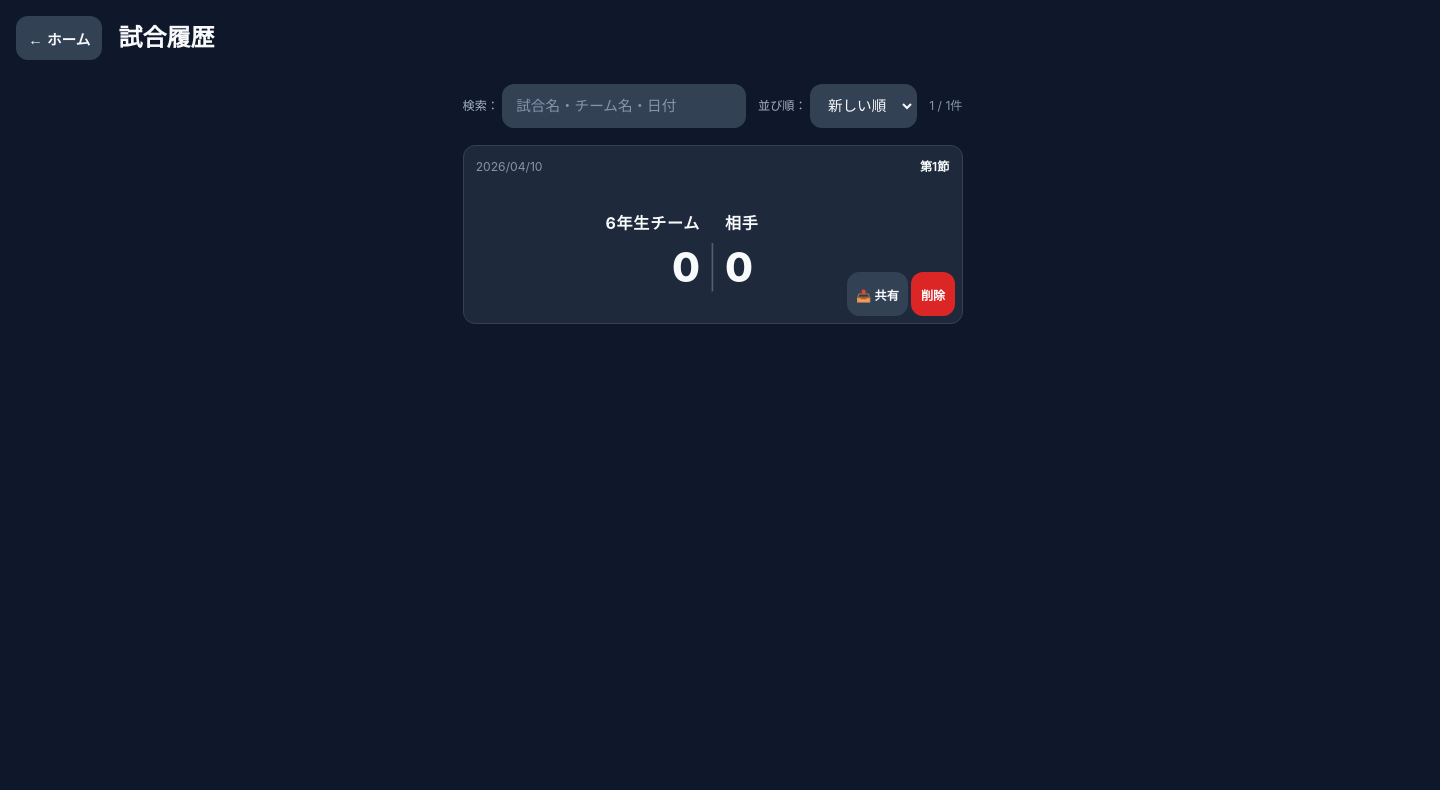
Scenario: 履歴の後編集: 保存に失敗したとき › 試合情報が保存できなければ、画面も元のままにする
Click the button with class "history-card-main". click: point(509, 166)
box: [476,158,949,311]
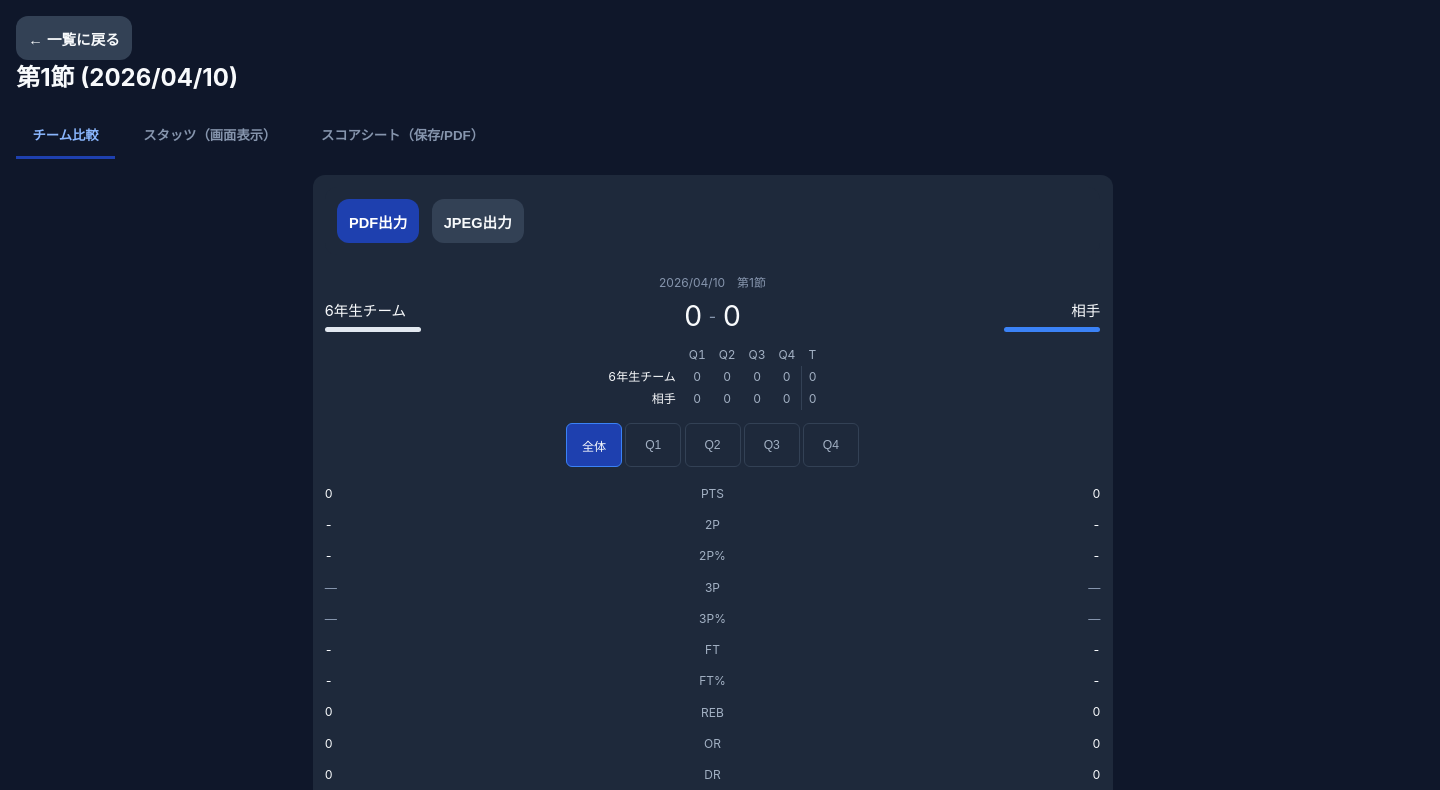
Click the button "スコアシート（保存/PDF）". click: point(403, 136)
box: [305,112,500,159]
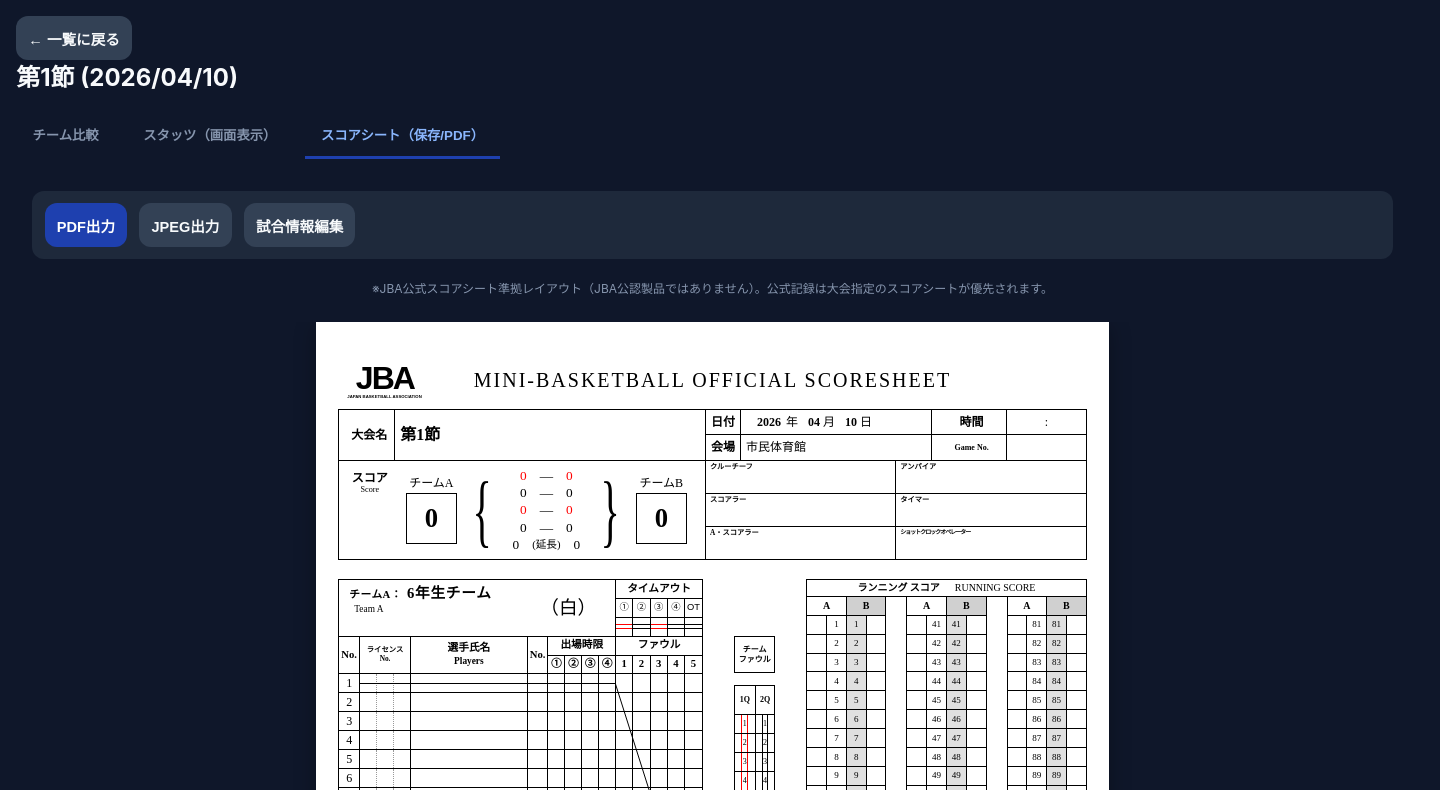
Click the button "試合情報編集". click: point(300, 225)
box: [244,203,356,247]
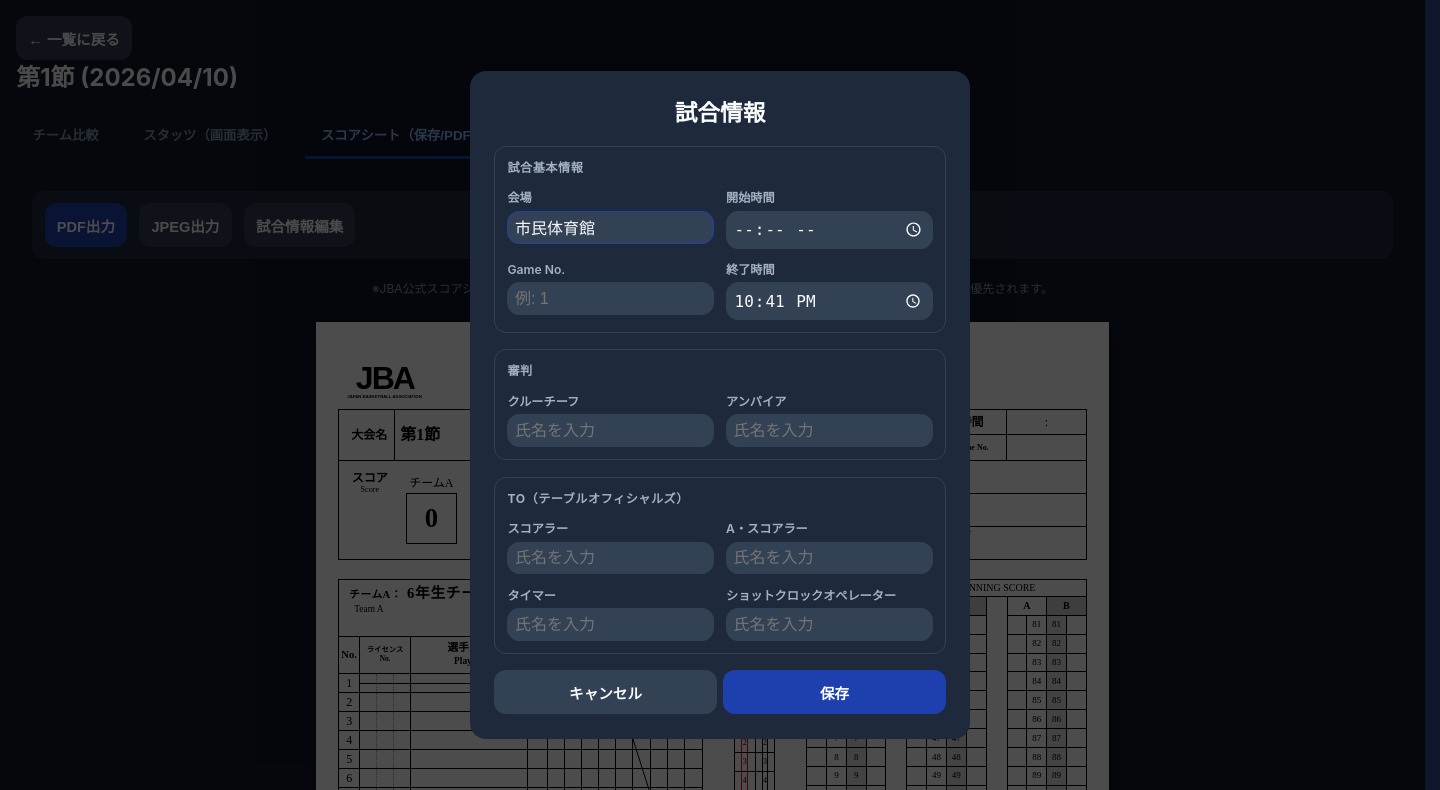
Replace the text in the field labelled "会場" with "中央体育館". click: point(611, 227)
box: [507,211,714,244]
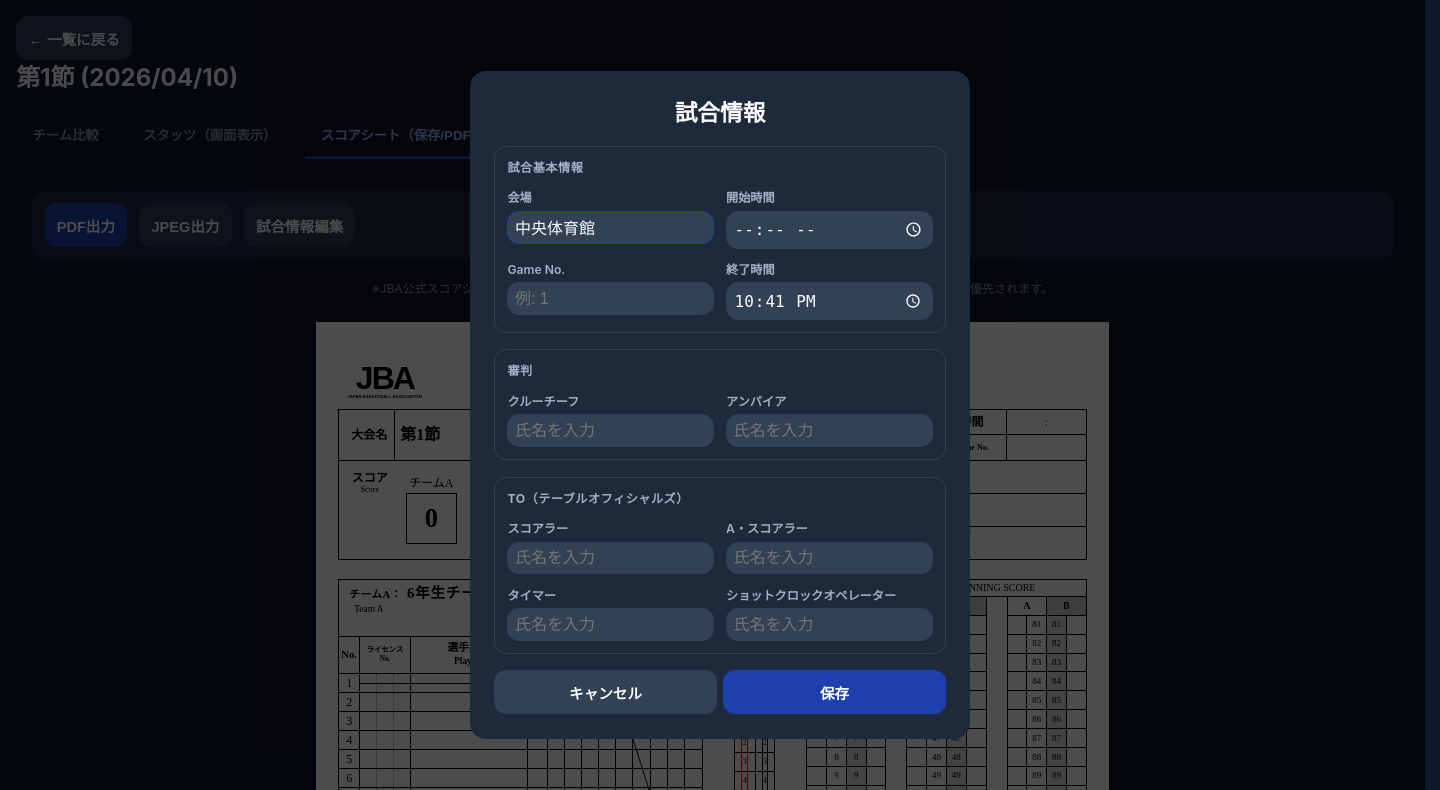
Click the button "保存". click: point(834, 692)
box: [723,670,946,714]
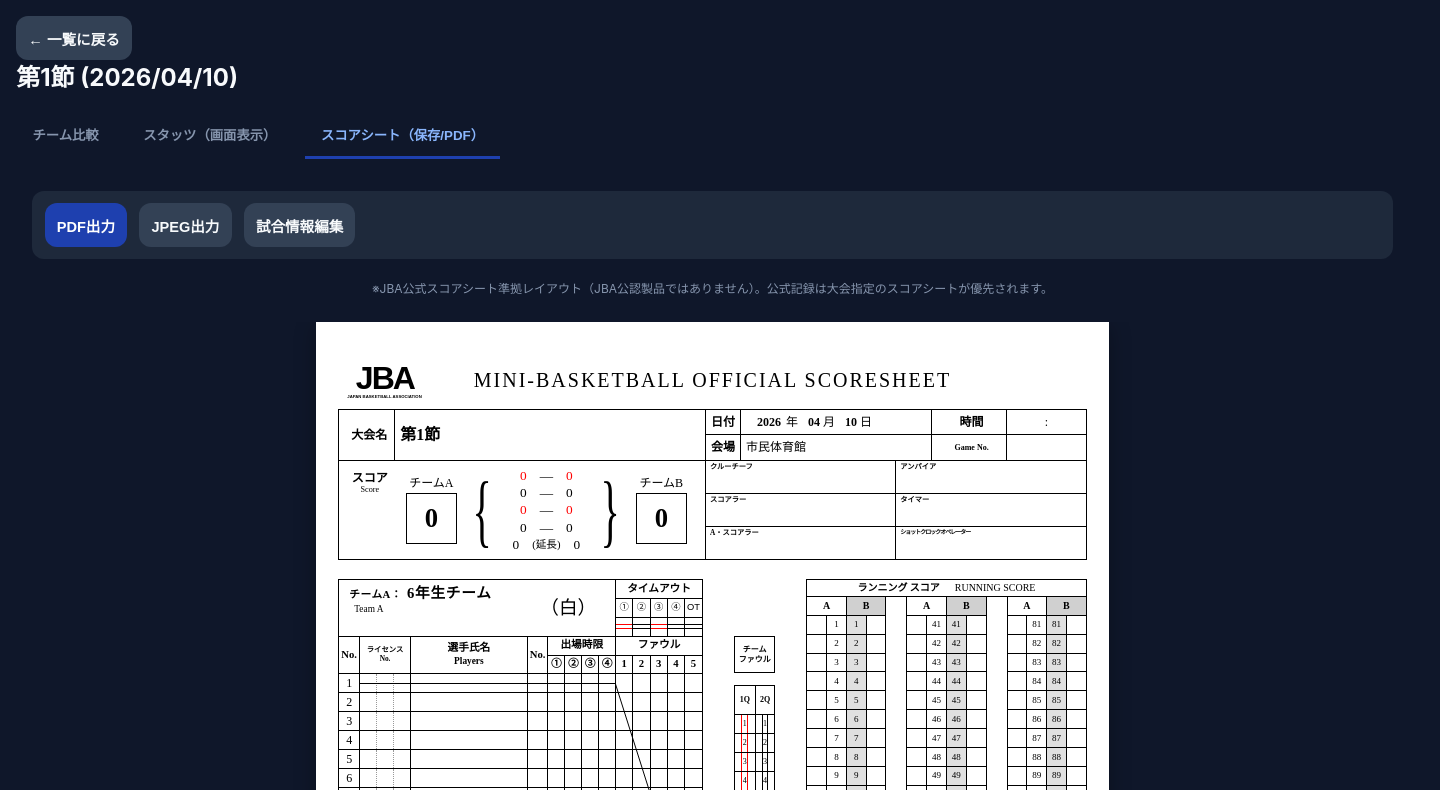
Click the button "試合情報編集". click: point(300, 225)
box: [244,203,356,247]
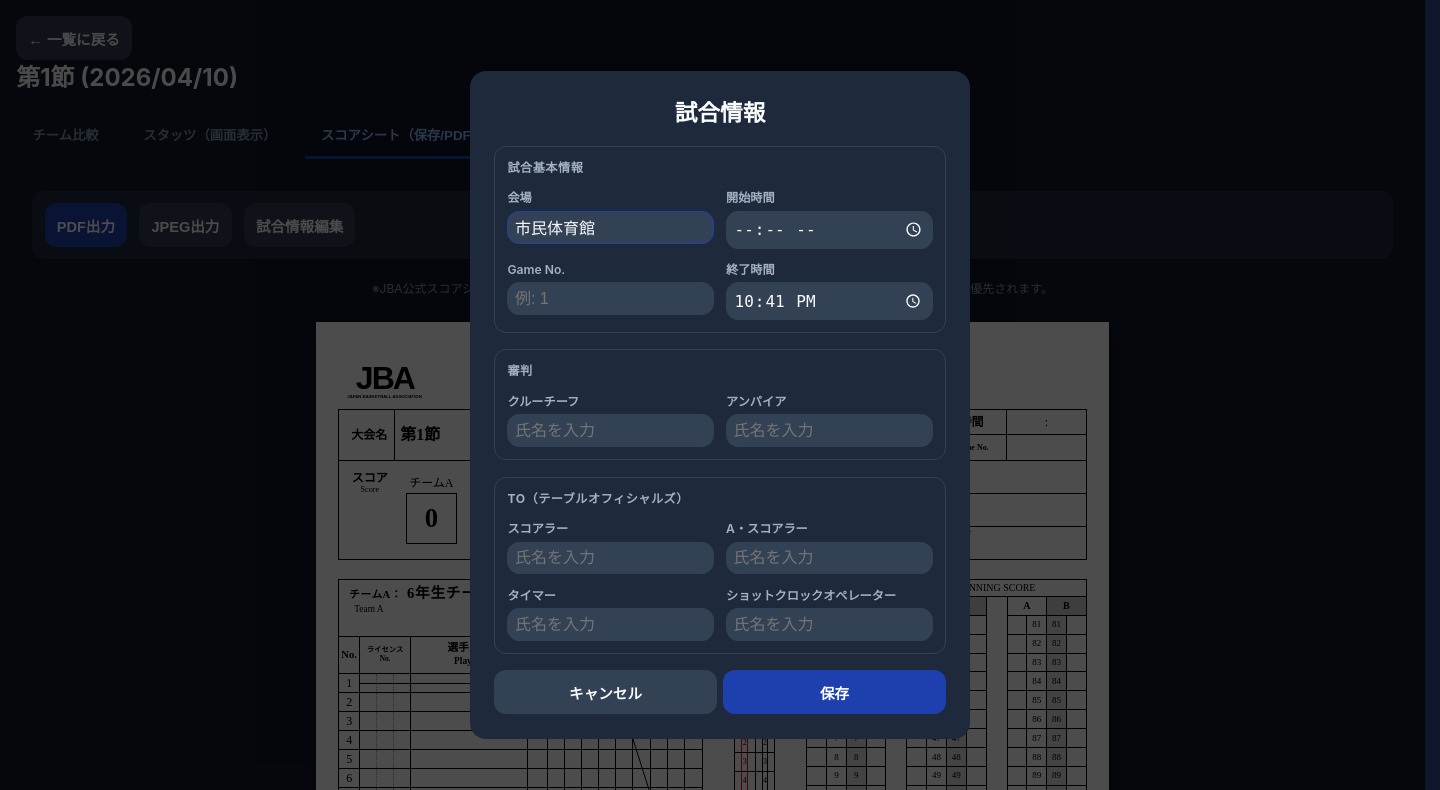
expect the text "市民体育館" is shown: met, box [746,440,806,455]
expect the field labelled "会場" holds "市民体育館": met, box [507,211,714,244]
